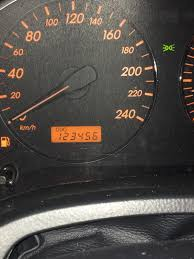Digital_Meter: (50, 124, 103, 146)
